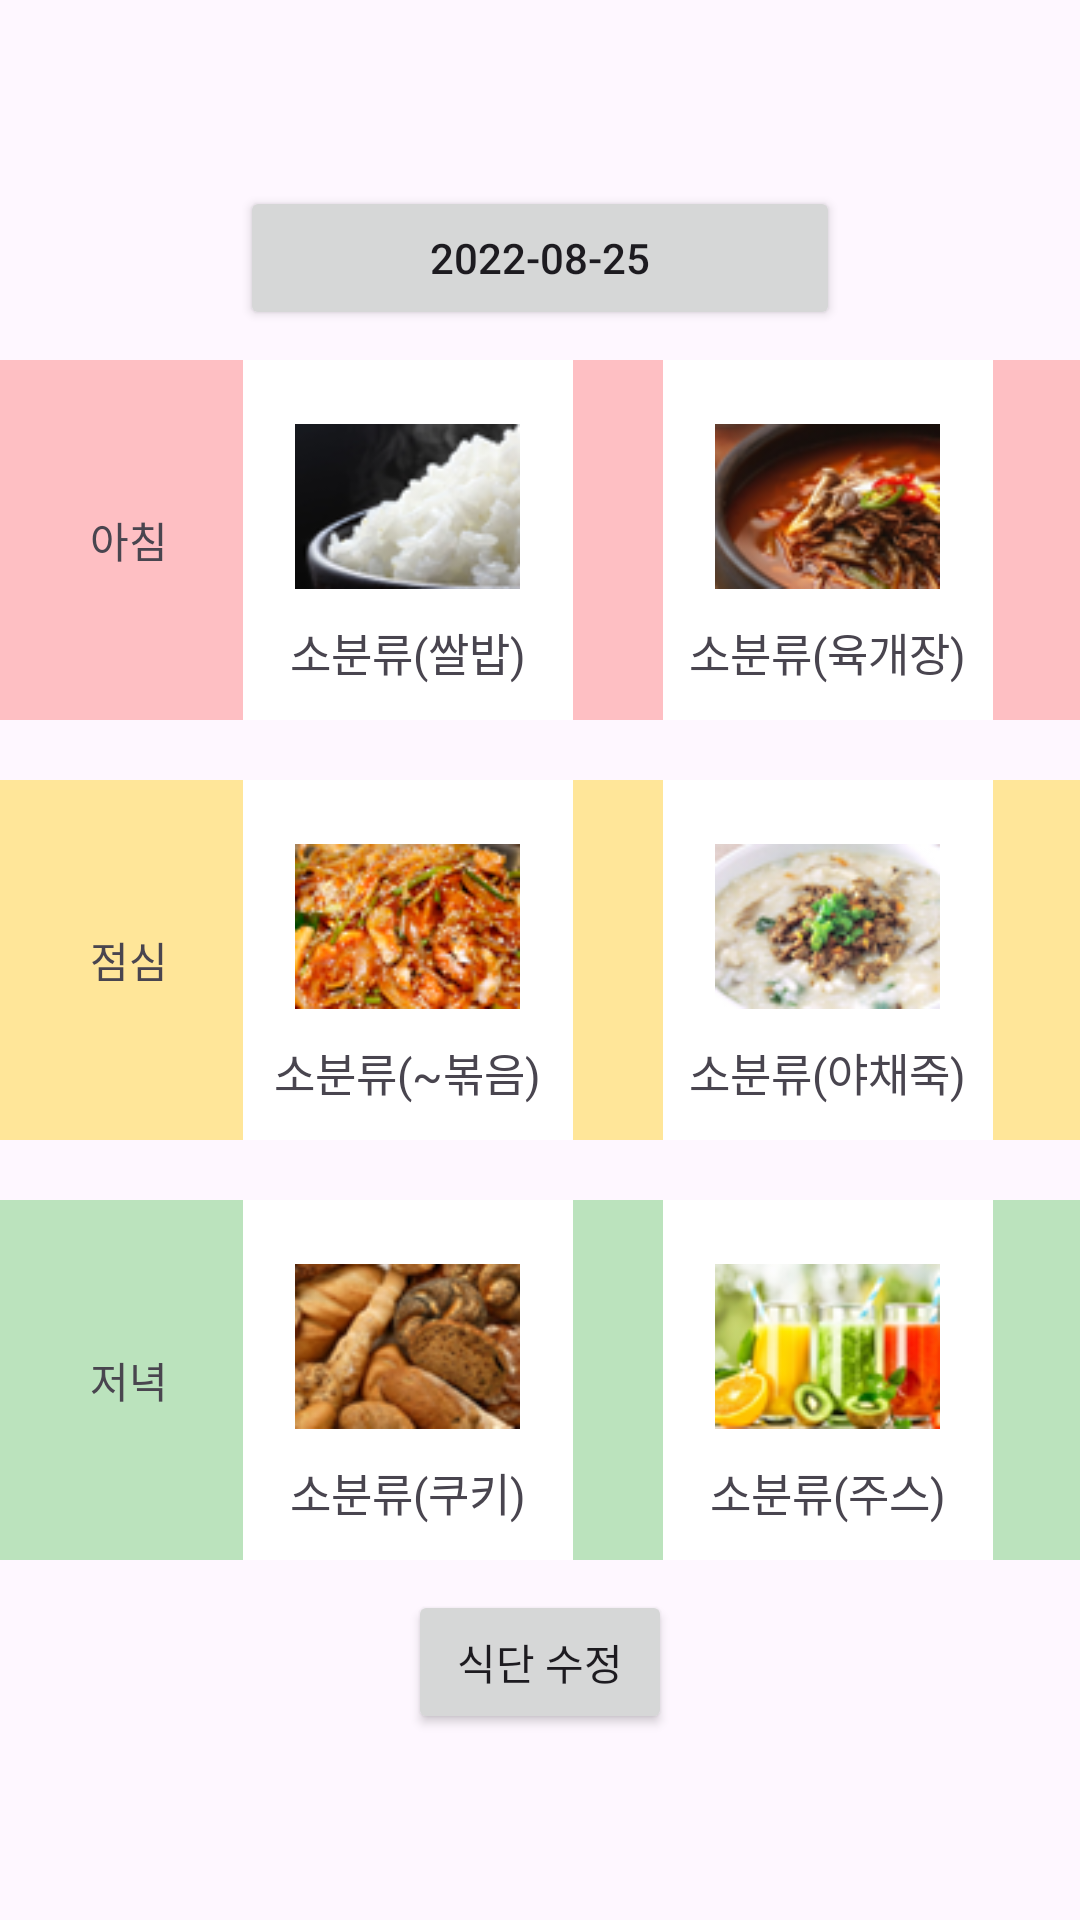

Screen size 1080px×1920px. Icon name, then its box in pixels as (x1, y1, x2, y2):
drink: (715, 1264, 940, 1429)
tang: (715, 424, 940, 589)
